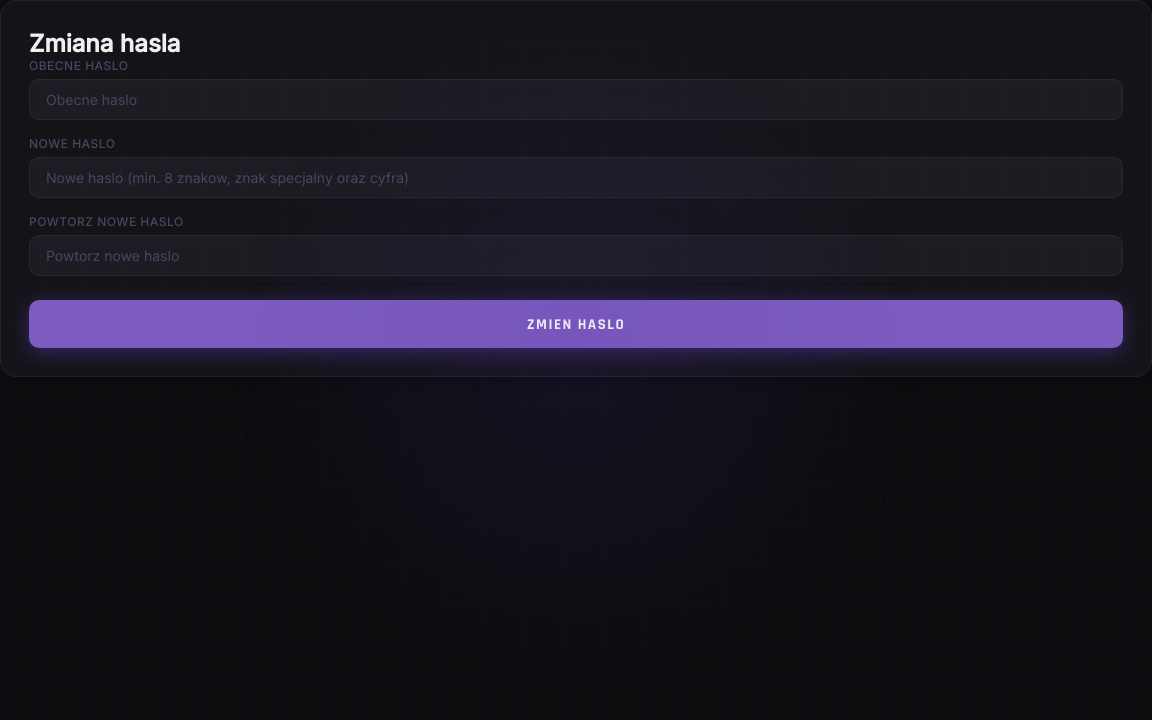
it: PasswordForm › pokazuje blad gdy nowe hasla sa rozne
Type "Stare123!" into the password field with placeholder "Obecne haslo" at {"x": 576, "y": 100}, box [29,79,1123,120]
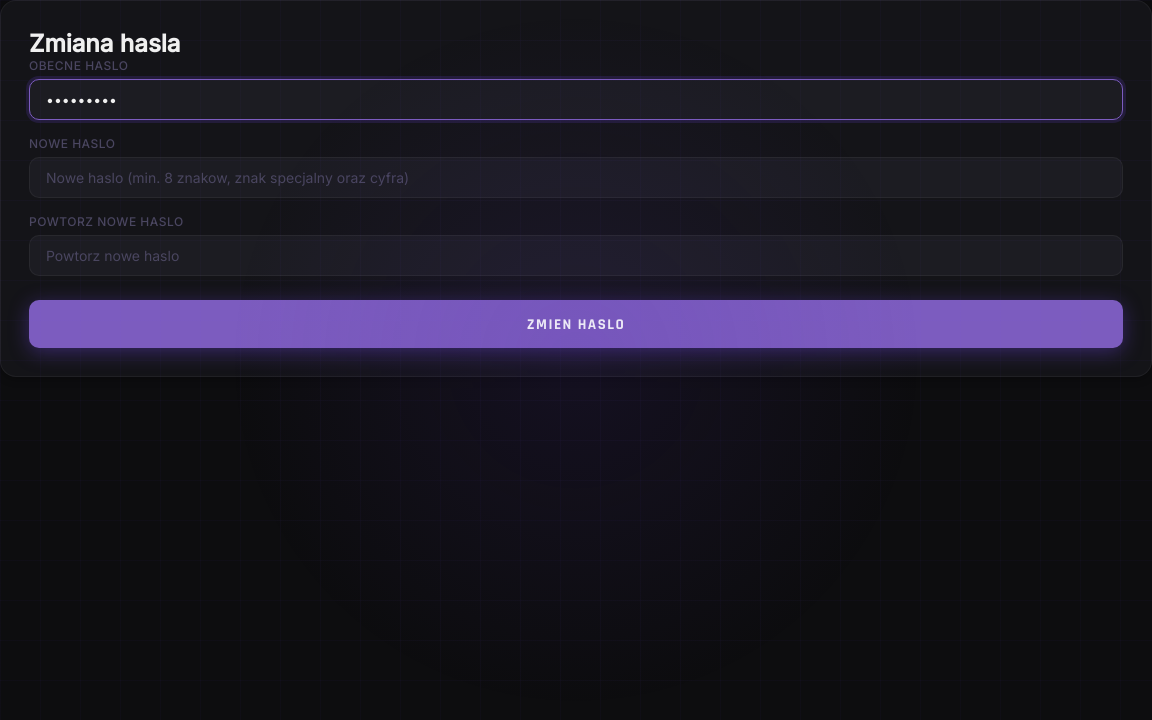
Type "Nowe123!" into the password field with placeholder "Nowe haslo (min. 8 znakow, znak specjalny oraz cyfra)" at {"x": 576, "y": 178}, box [29,157,1123,198]
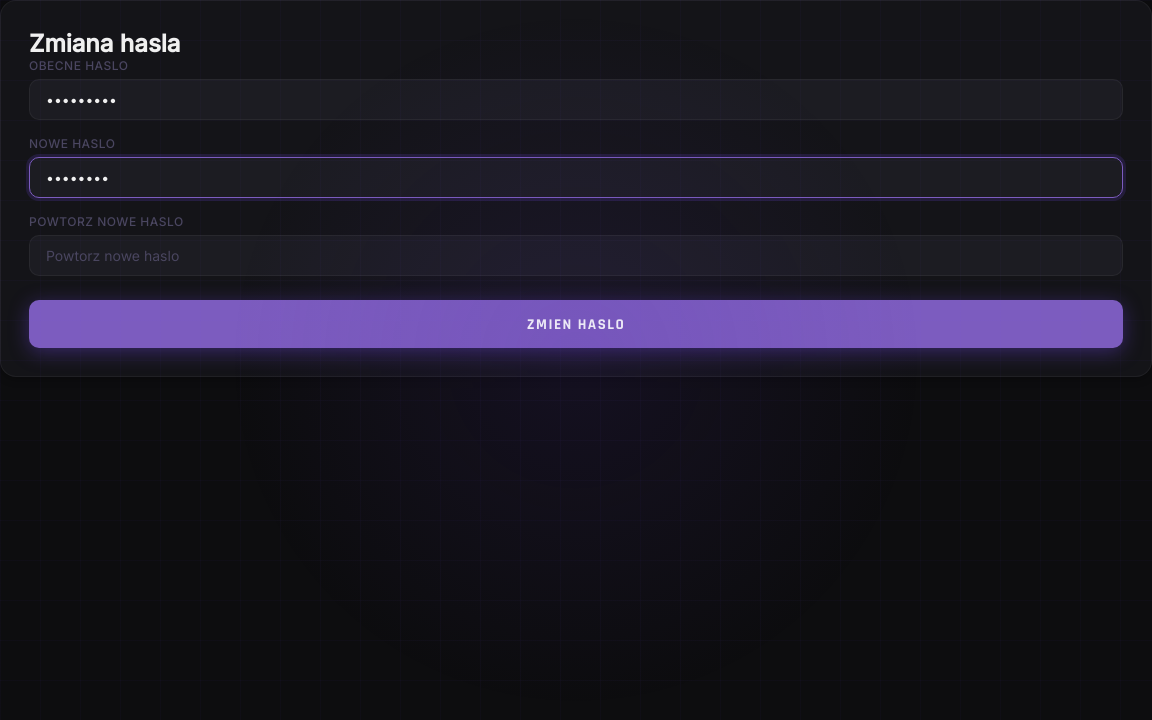
Type "Inne123!" into the password field with placeholder "Powtorz nowe haslo" at {"x": 576, "y": 256}, box [29,235,1123,276]
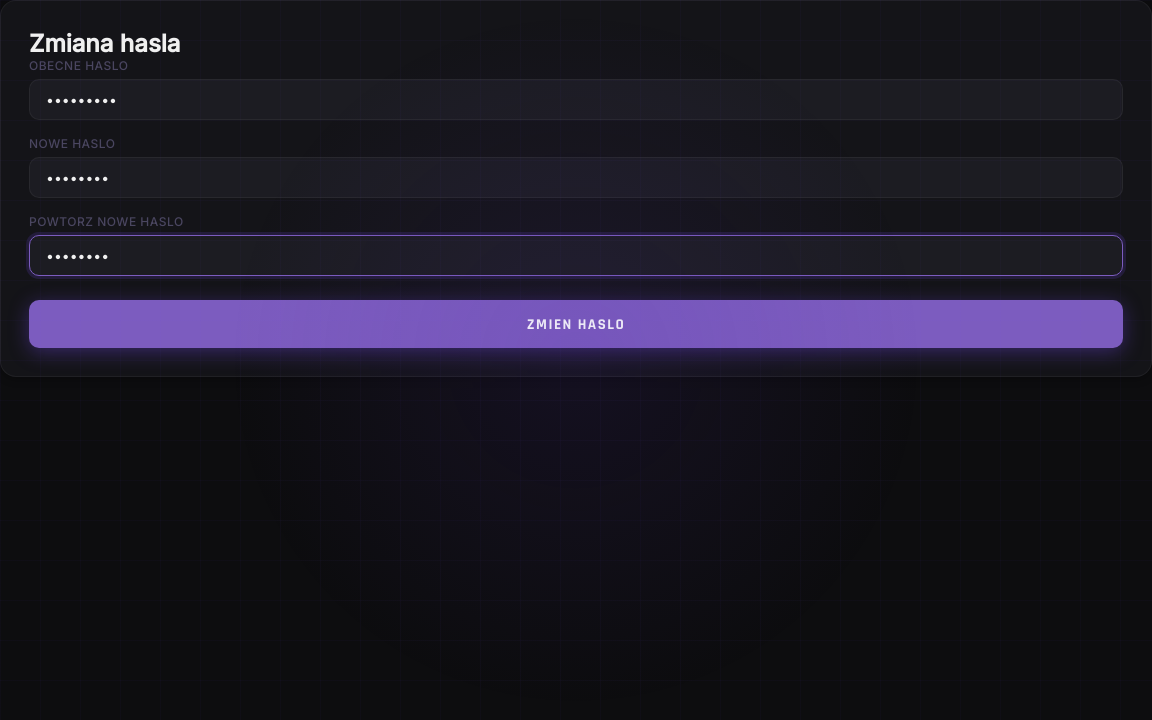
Click the button "Zmien haslo" at {"x": 576, "y": 324}, box [29,300,1123,348]
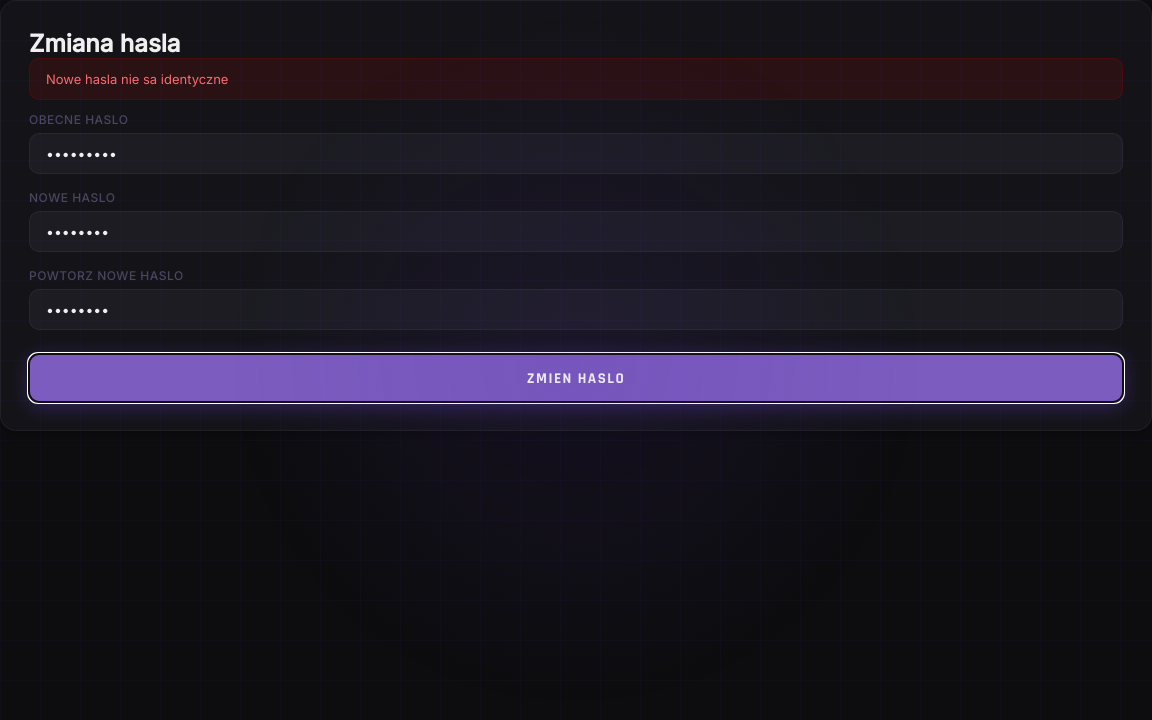
Check: the text "Nowe hasla nie sa identyczne" is shown, box [29,58,1123,100]
